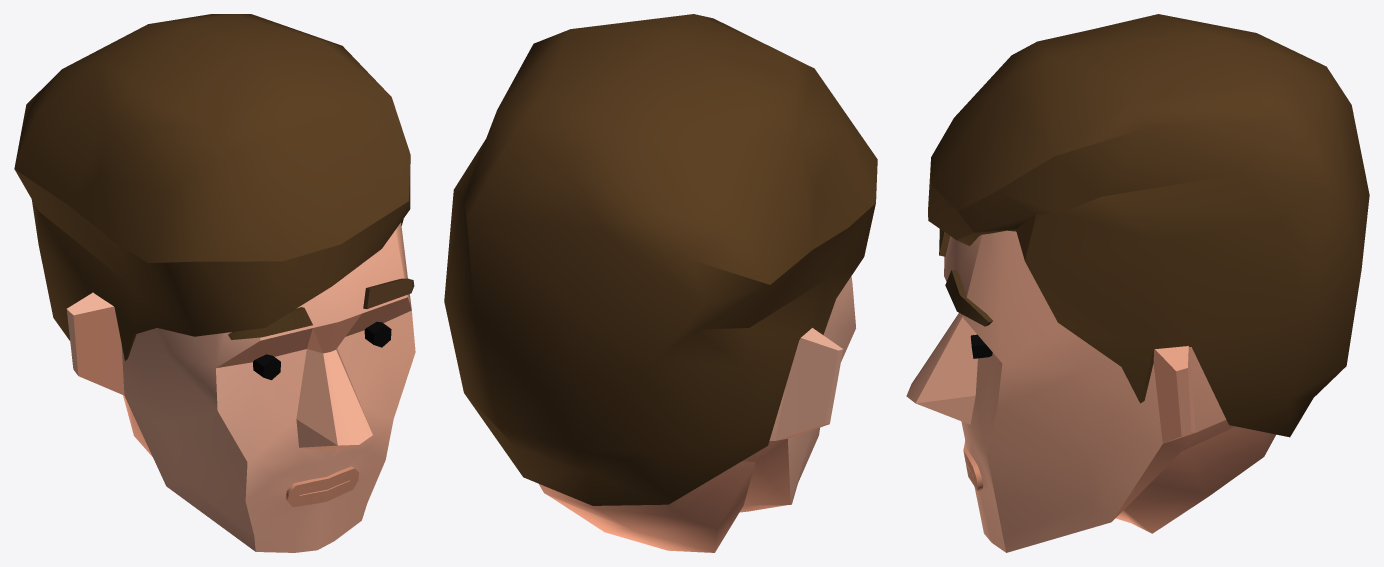
The model's file is _M_Doctor_Head.fbx.
3 renders of one model, left to right at view 1: azimuth 30°, elevation 25°; view 2: azimuth 150°, elevation 25°; view 3: azimuth 270°, elevation 25°, orthographic. The views are drawn at different scales.
Parts seen in each view (by area): view 1: _M_Doctor_Head; view 2: _M_Doctor_Head; view 3: _M_Doctor_Head.
Boxes of the visible parts, x1,y1,x2,y2 form: _M_Doctor_Head: [14, 14, 415, 552]; _M_Doctor_Head: [444, 14, 877, 552]; _M_Doctor_Head: [906, 14, 1369, 552].
Bounding box in the file's own units: 21.48 × 29.23 × 25.19.
